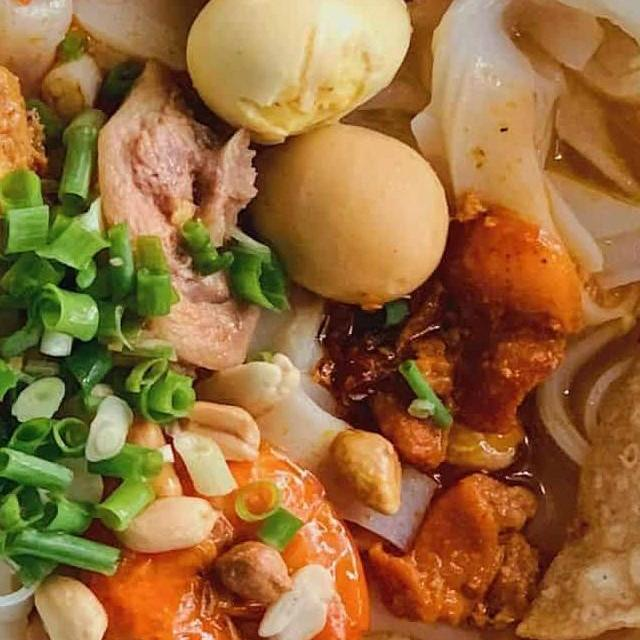banh da: (495, 230, 640, 640)
ca: (318, 190, 592, 478)
mi: (366, 0, 640, 290), (211, 287, 443, 561), (0, 409, 151, 640), (0, 0, 232, 118)
thit ga: (0, 34, 61, 423)
thit heo: (80, 38, 280, 374)
tom: (41, 406, 381, 640)
trung: (240, 112, 455, 310), (175, 0, 421, 149)
